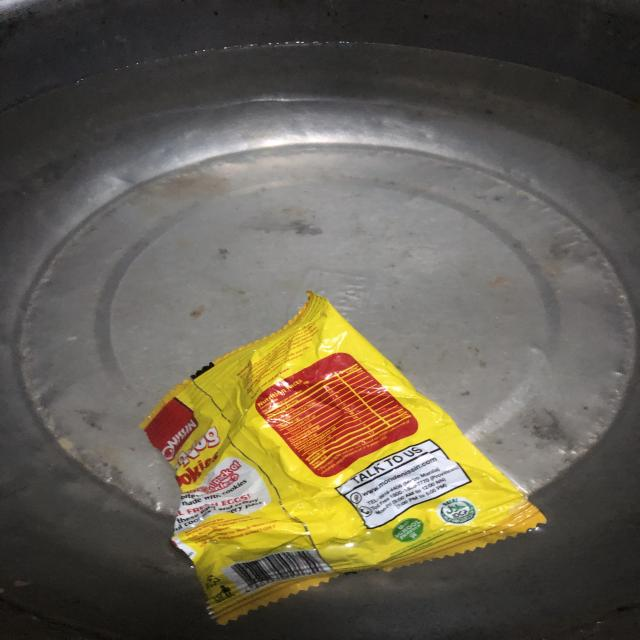Plastic Wrapper: (120, 270, 576, 640)
